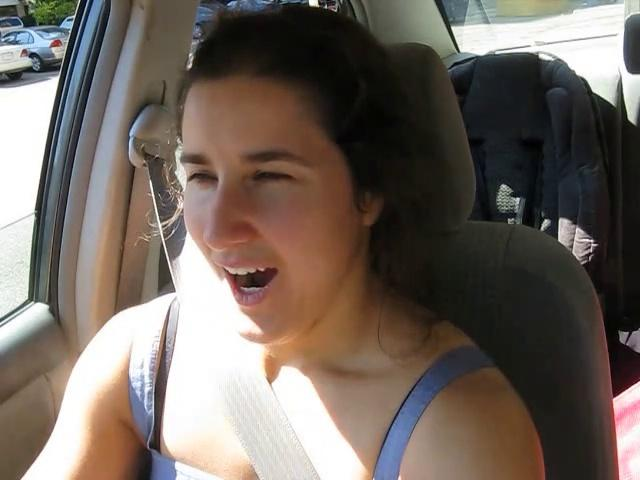close_eyeL: (170, 157, 226, 196)
close_eyeR: (233, 155, 315, 200)
yawn: (199, 247, 302, 312)
